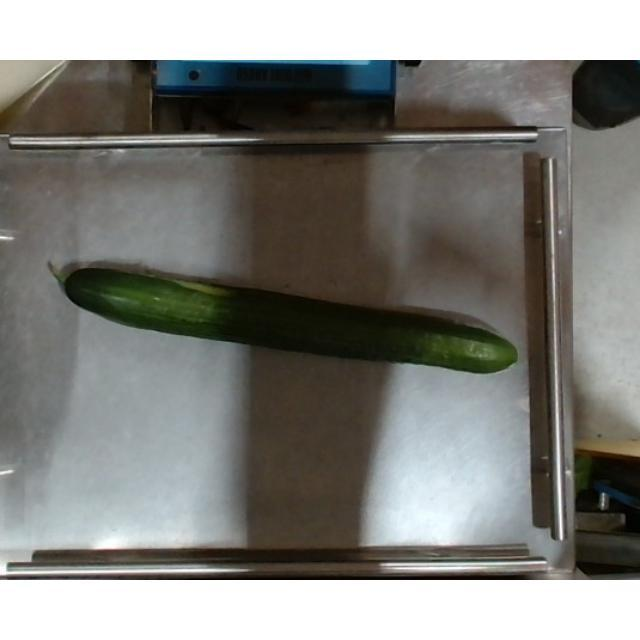cucumber: (46, 257, 518, 375)
